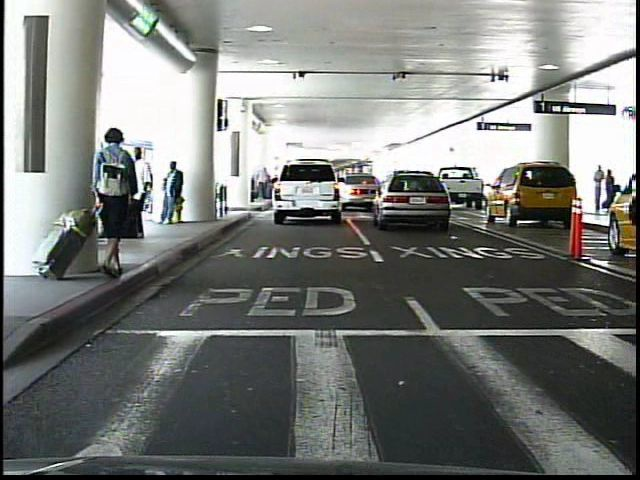person: (93, 125, 143, 281), (124, 144, 152, 239), (161, 160, 187, 228), (589, 165, 604, 213), (603, 166, 617, 210)
